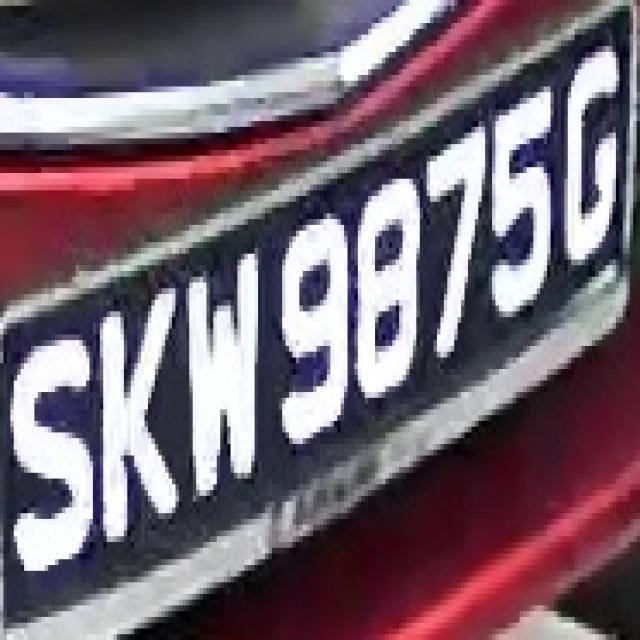5: (482, 104, 550, 328)
7: (416, 127, 492, 363)
8: (348, 167, 433, 404)
9: (276, 219, 362, 444)
G: (554, 46, 633, 283)
K: (86, 288, 182, 542)
S: (10, 323, 100, 576)
W: (182, 237, 276, 508)
